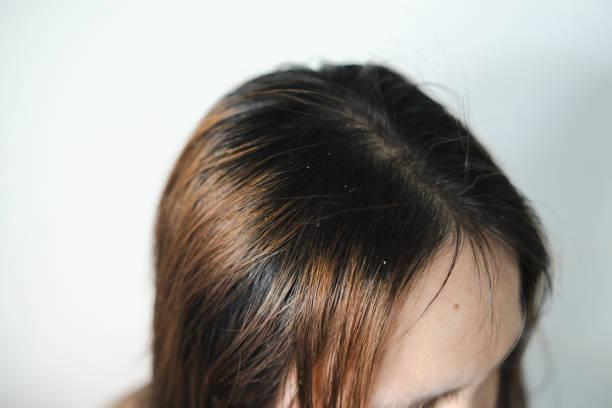dandruff: (376, 255, 393, 271), (339, 178, 354, 196), (312, 214, 325, 233), (301, 162, 314, 175), (258, 211, 270, 225), (323, 145, 331, 159), (344, 121, 354, 130)
